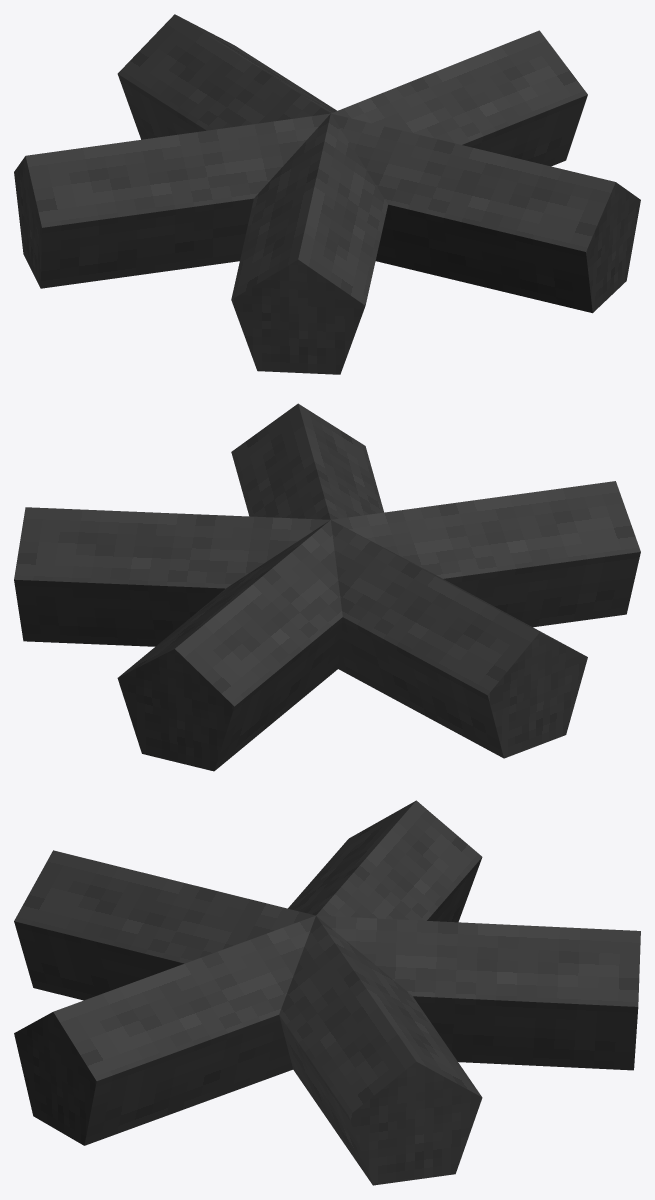
The model's file is campfire.glb.
3 views of the same model, one above another, from view 1: azimuth 30°, elevation 25°; view 2: azimuth 150°, elevation 25°; view 3: azimuth 270°, elevation 25° (orthographic). The views are drawn at different scales.
Visible parts, largest first — view 1: campfire; view 2: campfire; view 3: campfire.
Part boxes in pixels (x1,y1,x2,y2): campfire: (14,14,640,374); campfire: (14,403,640,771); campfire: (14,800,640,1185).
Bounding box in the file's own units: 1.33 × 0.3055 × 1.27.
Materials: 1 (1 with a texture image).
